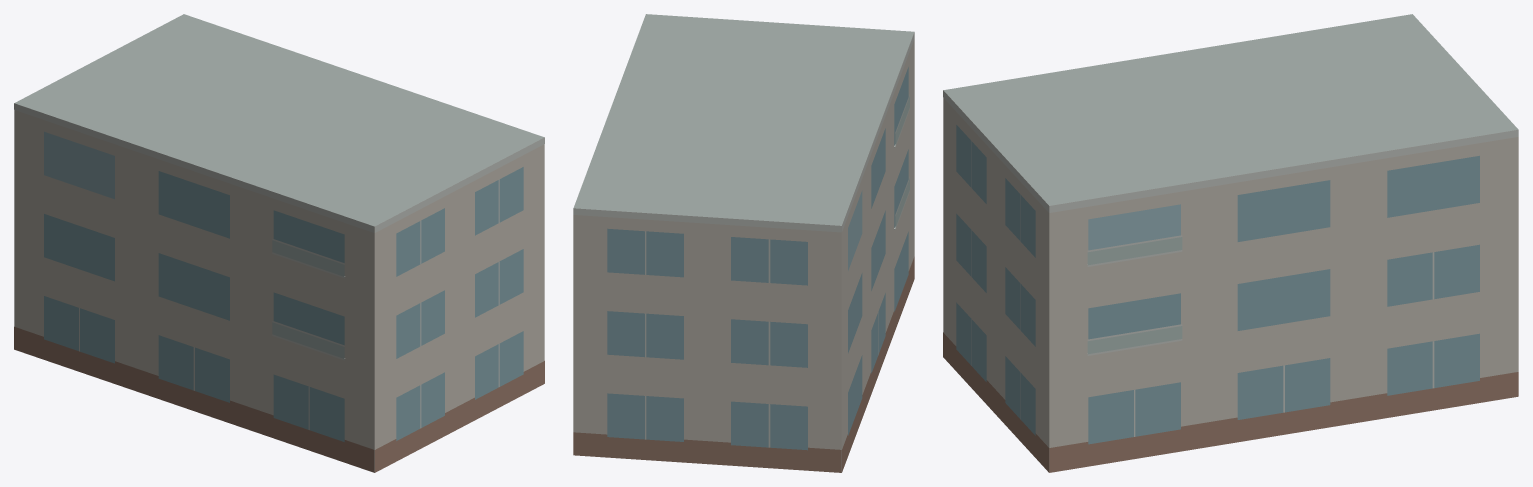
Rendered from survey-upis-32697636.glb.
3 renders of one model, left to right at view 1: azimuth 30°, elevation 25°; view 2: azimuth 150°, elevation 25°; view 3: azimuth 270°, elevation 25°, orthographic. The views are drawn at different scales.
Visible parts, largest first — view 1: survey-upis-32697636.tmp; view 2: survey-upis-32697636.tmp; view 3: survey-upis-32697636.tmp.
Boxes of the visible parts, x1,y1,x2,y2 form: survey-upis-32697636.tmp: (14,14,544,472); survey-upis-32697636.tmp: (573,14,914,472); survey-upis-32697636.tmp: (943,14,1518,472).
Size of the model in its own units: 14.12 by 9.15 by 17.89.
